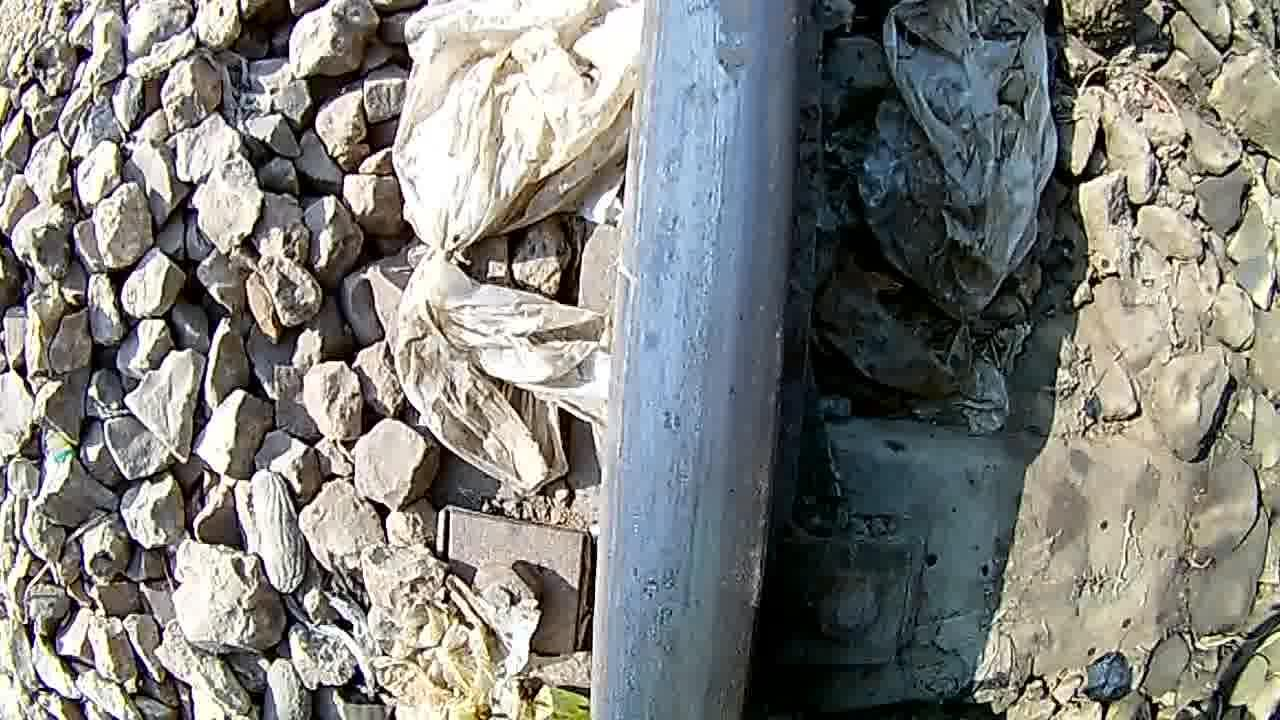bolt_missing: (624, 0, 796, 720)
